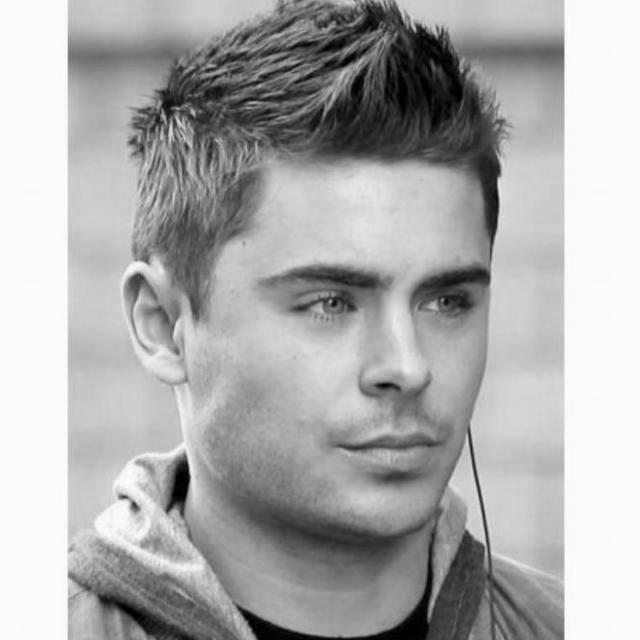real: (183, 63, 511, 545)
